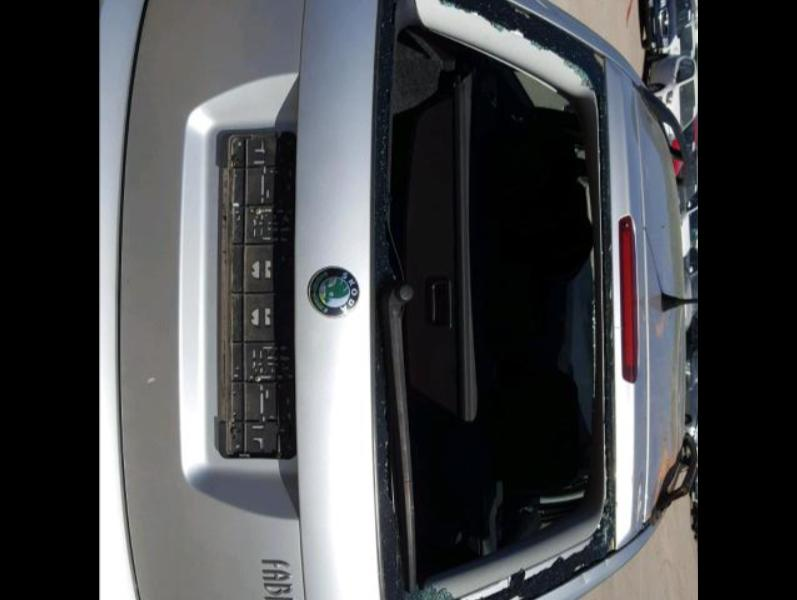Cracked: (372, 0, 618, 600)
Missing part: (220, 130, 294, 454)
